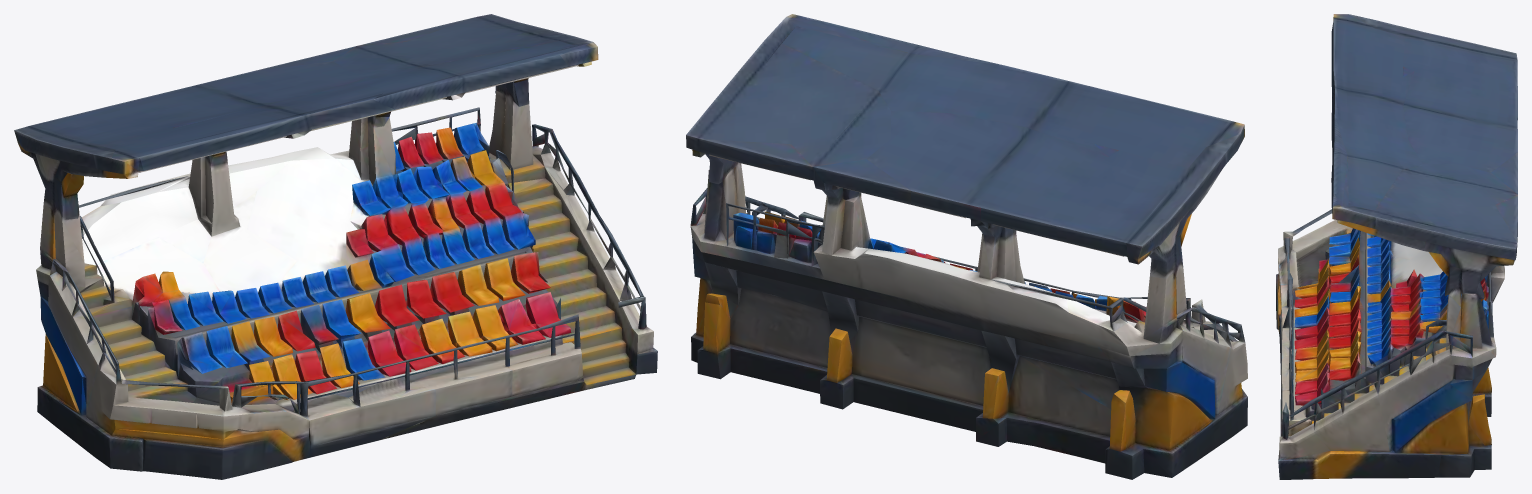
File: m2StadiumStandBgV2I.glb
3 views of the same model, side by side, from view 1: azimuth 30°, elevation 25°; view 2: azimuth 150°, elevation 25°; view 3: azimuth 270°, elevation 25° (orthographic). The views are drawn at different scales.
Parts seen in each view (by area): view 1: model; view 2: model; view 3: model.
Part boxes in pixels (bbox=[...]): model: bbox=[14, 14, 657, 479]; model: bbox=[686, 14, 1247, 479]; model: bbox=[1276, 14, 1517, 479].
Bounding box in the file's own units: 1.9 × 1.11 × 0.9271.
1 material, 1 textured.
